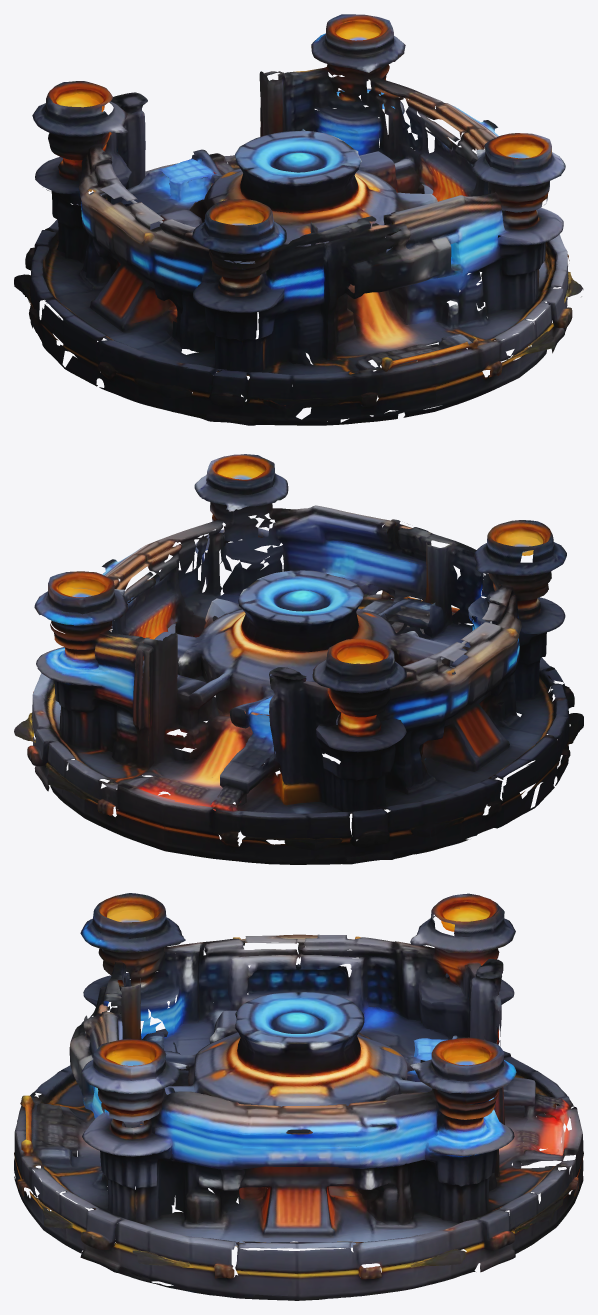
Rendered from fusionworks.glb.
3 renders of one model, top to bottom at view 1: azimuth 30°, elevation 25°; view 2: azimuth 150°, elevation 25°; view 3: azimuth 270°, elevation 25°, orthographic. The views are drawn at different scales.
Parts seen in each view (by area): view 1: geometry_0.460; view 2: geometry_0.460; view 3: geometry_0.460.
Boxes of the visible parts, box(x1,y1,x2,y2) form: geometry_0.460: box(14, 14, 583, 425); geometry_0.460: box(14, 454, 583, 864); geometry_0.460: box(14, 893, 583, 1300).
Bounding box in the file's own units: 2.93 × 1.18 × 2.94.
1 material, 1 textured.
